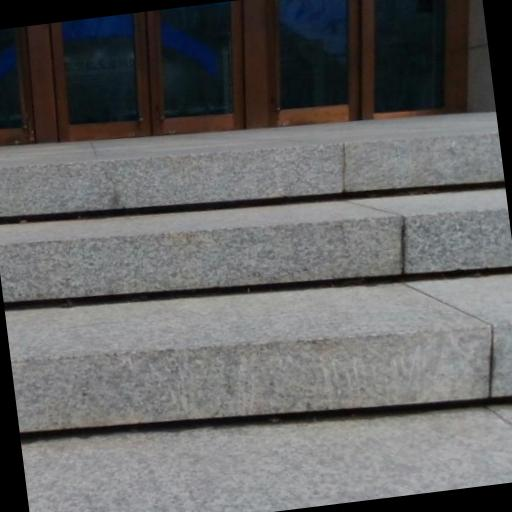stairs: (0, 114, 511, 433)
